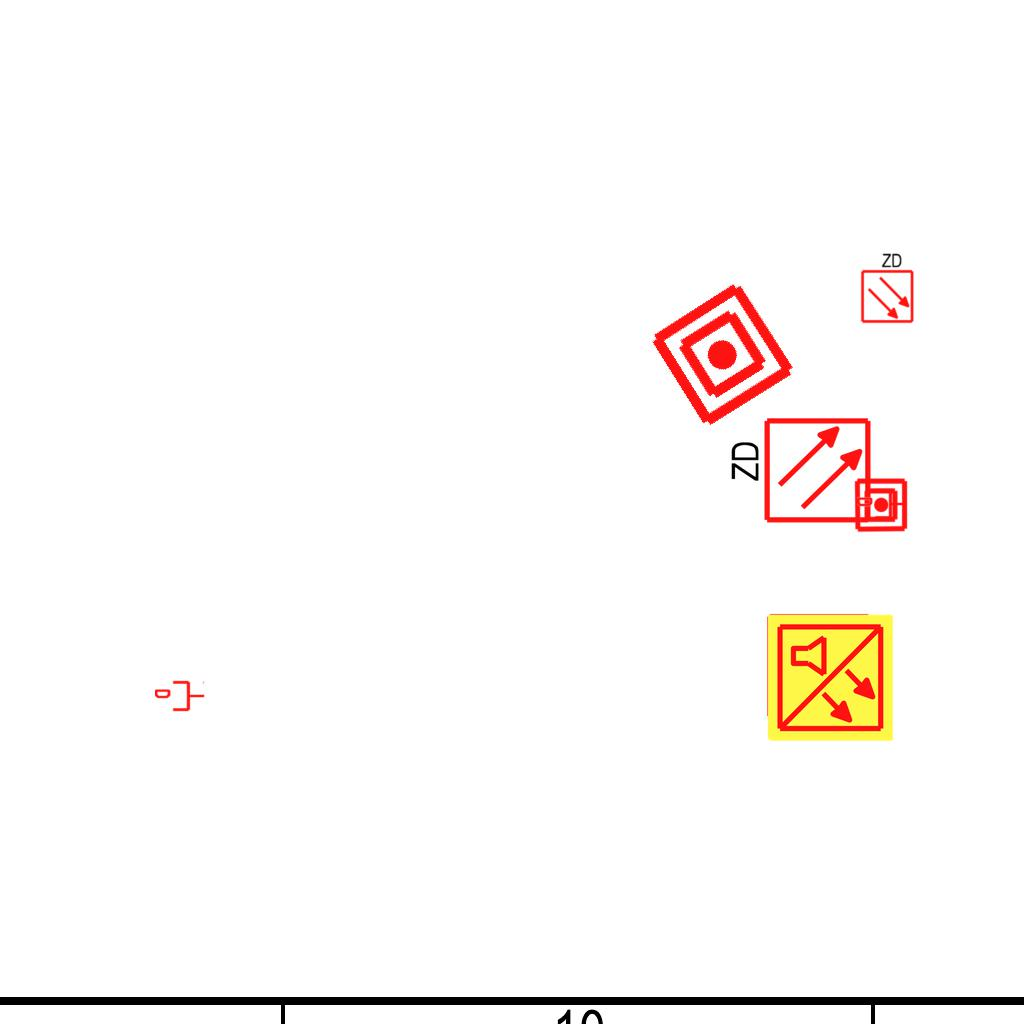Datenanschluss_einfach: (155, 679, 205, 713), (857, 487, 907, 521)
NAM-Nichtautomatischer_Melder: (644, 276, 801, 433), (853, 477, 909, 533)
OKW_Multisensormelder_(Kombination_optischer_Rauch-Kahlenmonoxid_Waerme-Melder): (764, 612, 896, 744)
ZD_Melder_in_Zwischendecke_mit_Revisionsoeffnung_mind_40_x_40_cm: (724, 415, 873, 529), (858, 250, 915, 324)
